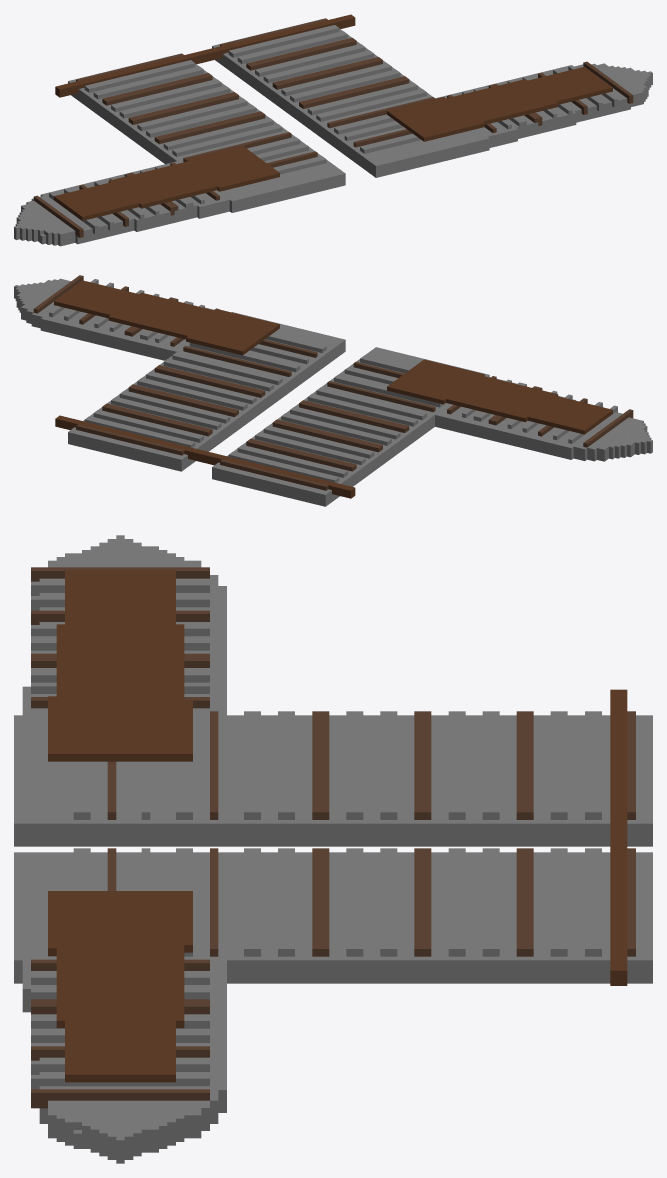
The model's file is rusty_mail_chausses.glb.
3 views of the same model, one above another, from view 1: azimuth 30°, elevation 25°; view 2: azimuth 150°, elevation 25°; view 3: azimuth 270°, elevation 25° (orthographic). The views are drawn at different scales.
Parts seen in each view (by area): view 1: rusty_mail_chausses:compound; view 2: rusty_mail_chausses:compound; view 3: rusty_mail_chausses:compound.
Part boxes in pixels (x1,y1,x2,y2): rusty_mail_chausses:compound: [14, 14, 652, 246]; rusty_mail_chausses:compound: [14, 275, 652, 506]; rusty_mail_chausses:compound: [14, 535, 652, 1163].
Size of the model in its own units: 0.672 by 0.02 by 0.3.
